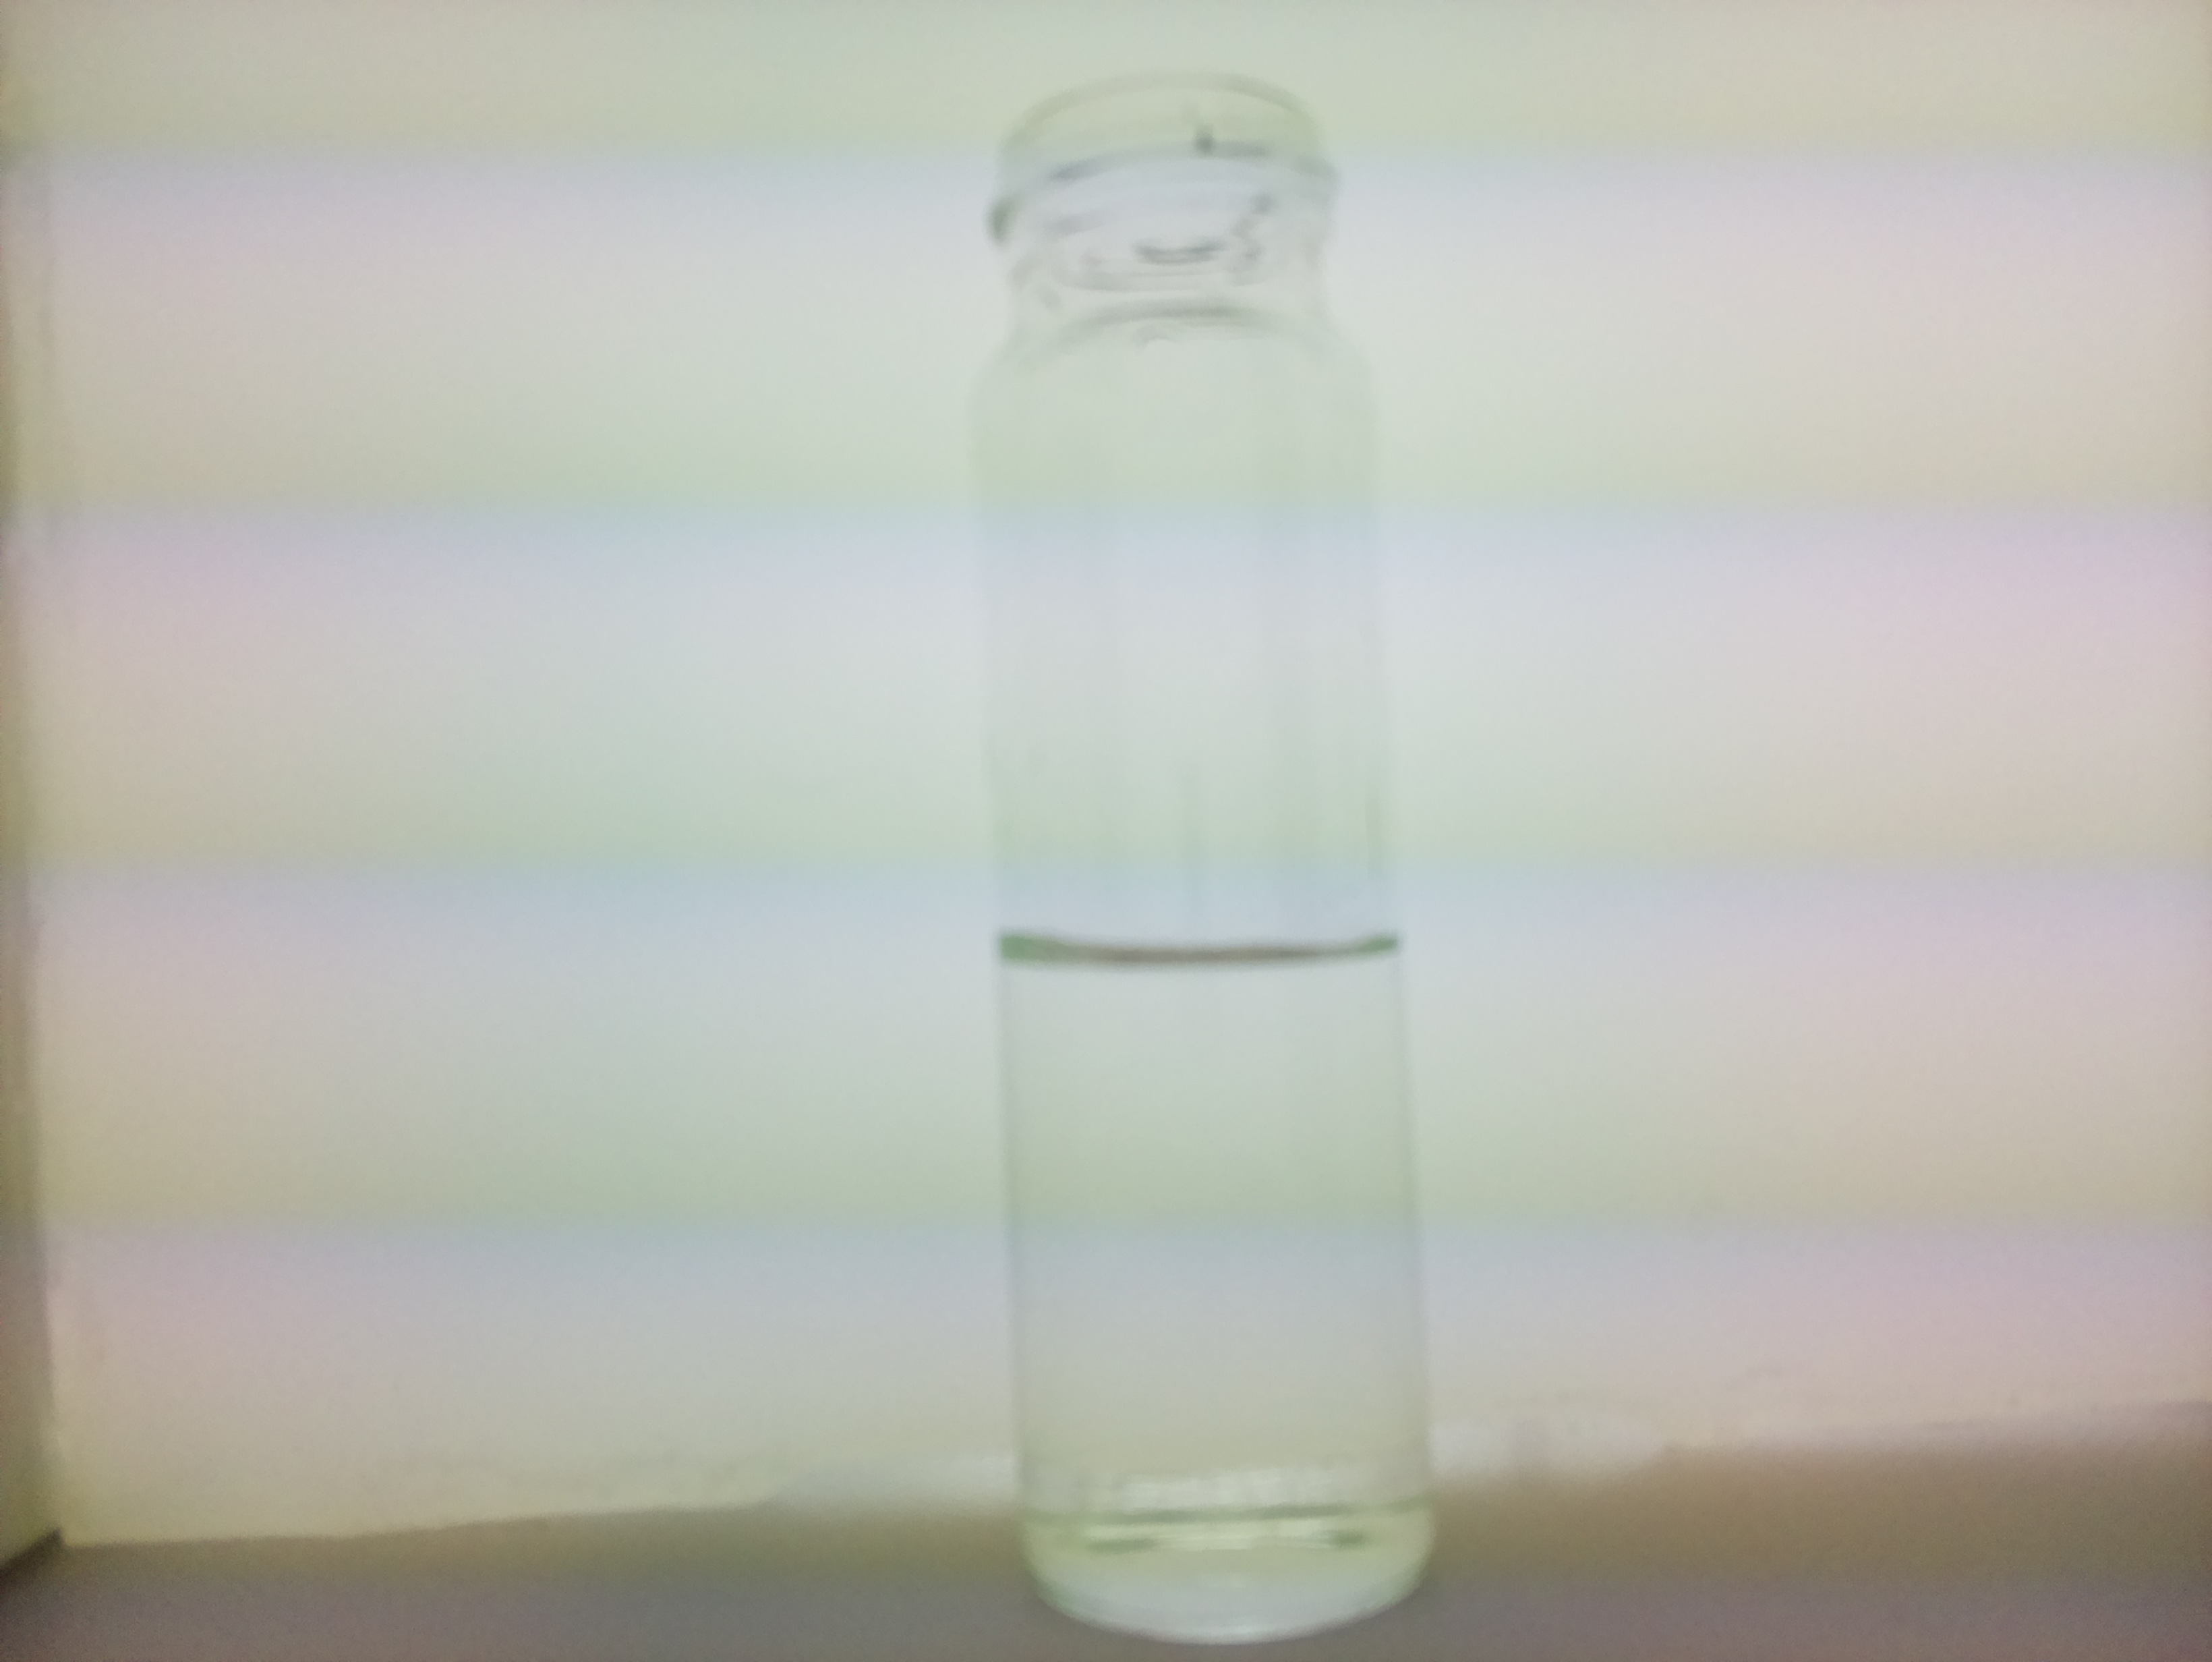colored_area: (1004, 943, 1426, 1501)
